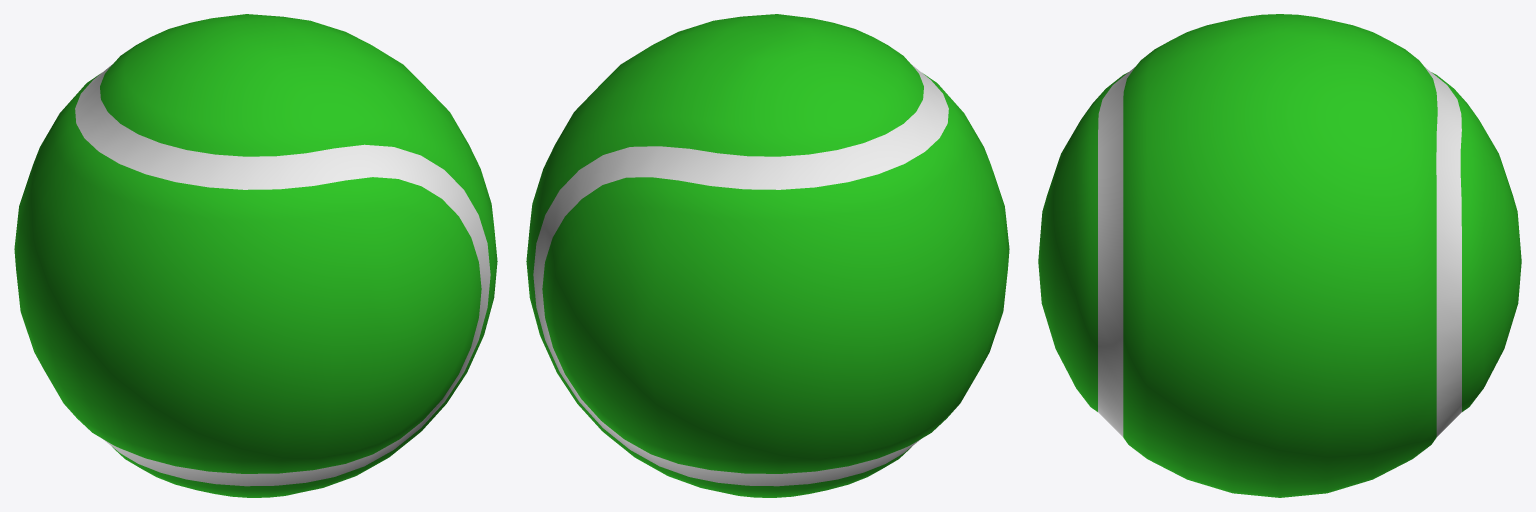
The picture shows the model from 3 angles, left to right: view 1: azimuth 30°, elevation 25°; view 2: azimuth 150°, elevation 25°; view 3: azimuth 270°, elevation 25°; orthographic projection.
Visible parts, largest first — view 1: Sphere; view 2: Sphere; view 3: Sphere.
Boxes of the visible parts, x1,y1,x2,y2 form: Sphere: [14, 14, 497, 497]; Sphere: [526, 14, 1009, 497]; Sphere: [1038, 14, 1521, 497].
Bounding box in the file's own units: 198 × 198 × 198.
